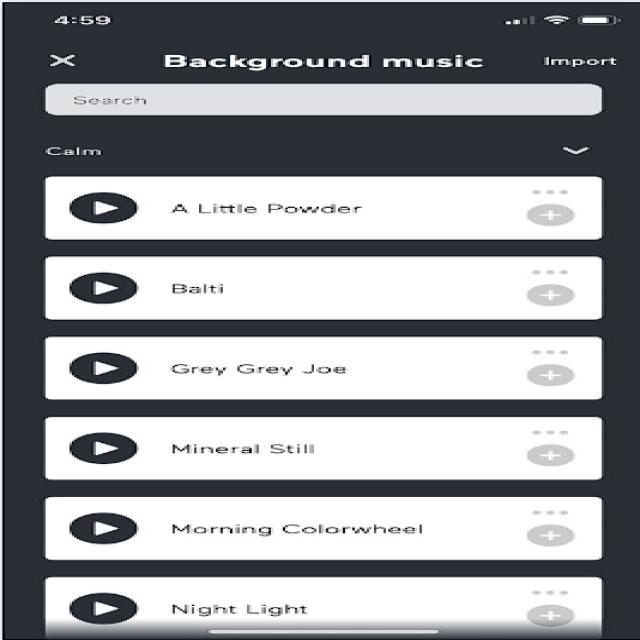icon button: (55, 340, 156, 391), (52, 504, 154, 550), (54, 267, 154, 311), (54, 429, 154, 473), (55, 183, 147, 229), (64, 587, 144, 633), (507, 358, 595, 392), (513, 198, 593, 230), (516, 439, 593, 472), (513, 601, 593, 632), (519, 275, 581, 313), (31, 46, 104, 76), (519, 520, 581, 550), (543, 135, 614, 161)
input: (39, 76, 622, 123)
row: (19, 163, 624, 248), (15, 408, 617, 488), (15, 487, 617, 567), (18, 251, 617, 327), (18, 329, 614, 405), (15, 570, 619, 640)
text: (156, 50, 504, 71), (168, 356, 368, 386), (159, 520, 435, 540), (168, 200, 375, 217), (172, 439, 330, 461), (160, 602, 330, 618), (531, 51, 640, 70), (166, 279, 246, 299)
